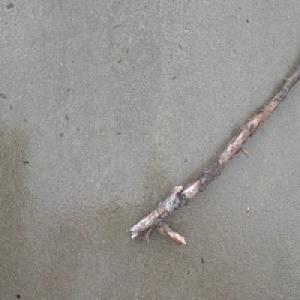Wood: (128, 63, 300, 248)
